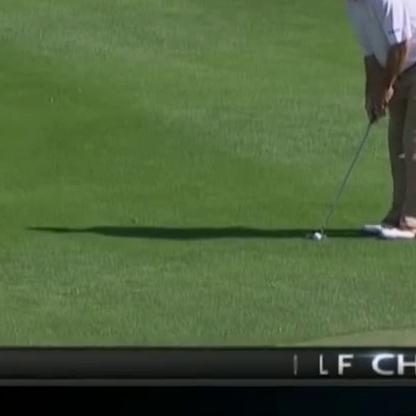golfball: (309, 233, 320, 240)
